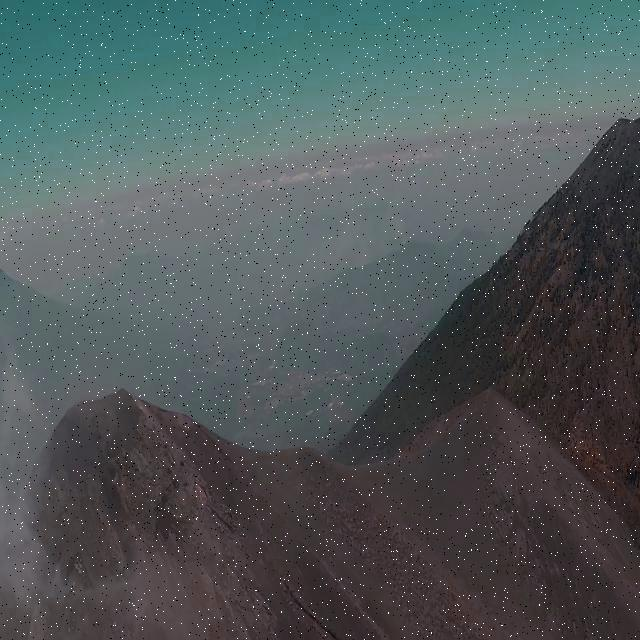Summit: (0, 377, 236, 640)
